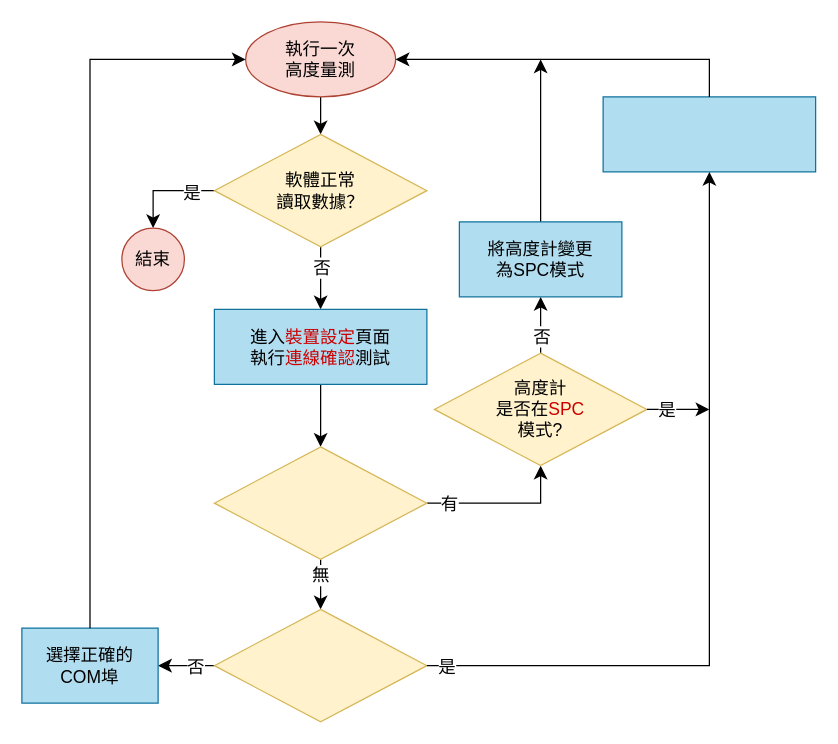
Image size: 838x744. Some labels were removed from this diagram. The centre of each missing label's shape, as x and y in pixels:
"COM埠設定 是否正確？" goes at (x=320, y=665).
"回應訊息 有 裝置類別 和 序號 ？" goes at (x=320, y=502).
"電源、線路是否正確 繼電器是否鬆脫 計時器設定是否正確" goes at (x=709, y=134).
